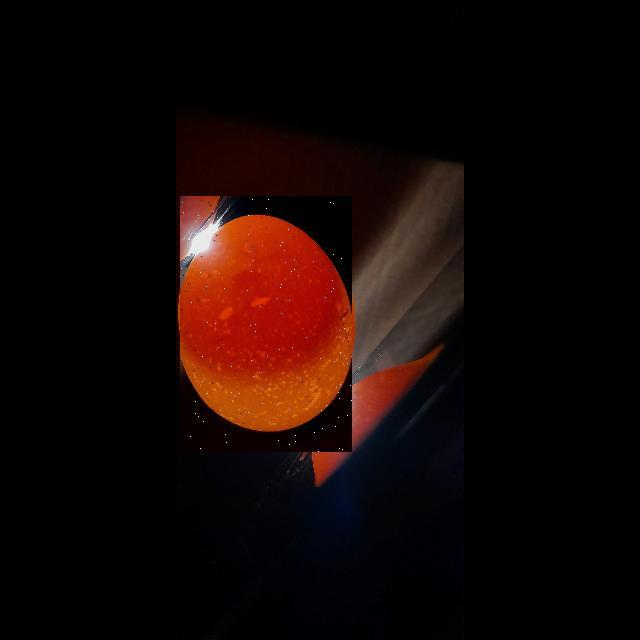Fertile: (180, 196, 352, 452)
